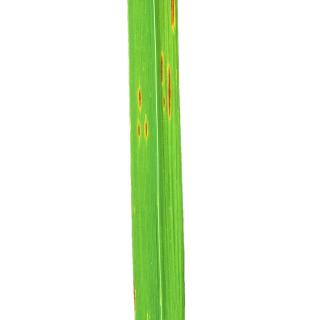Bercak-Cokelat-Sempit: (133, 84, 152, 146), (159, 49, 173, 121), (164, 0, 184, 34)
